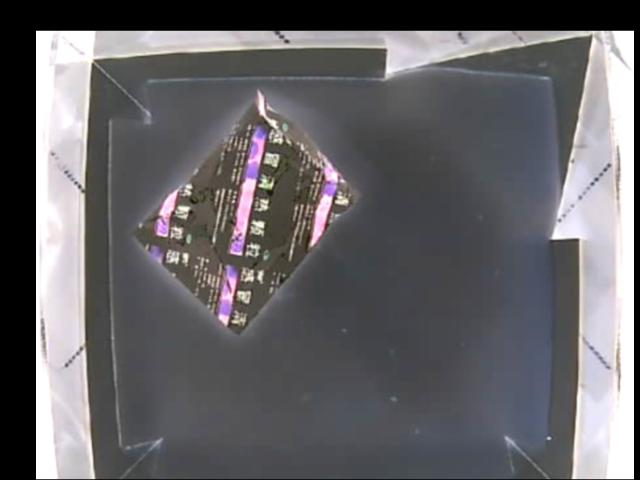Medicine: (129, 93, 354, 335)
